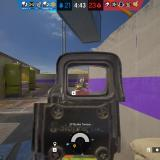Character: (77, 78, 87, 92)
Head: (80, 79, 84, 83)
